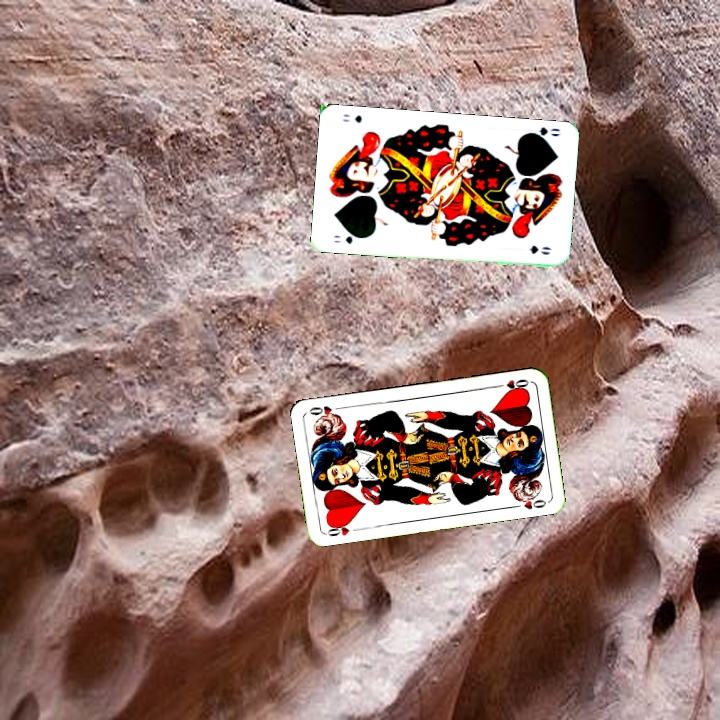GO: (522, 123, 563, 143), (330, 230, 366, 246)
HO: (322, 518, 363, 539), (492, 375, 531, 394)
